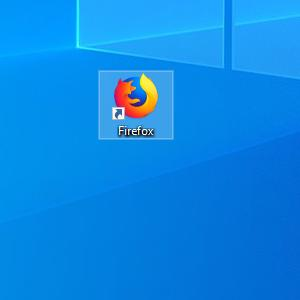firefox: (112, 72, 160, 120)
